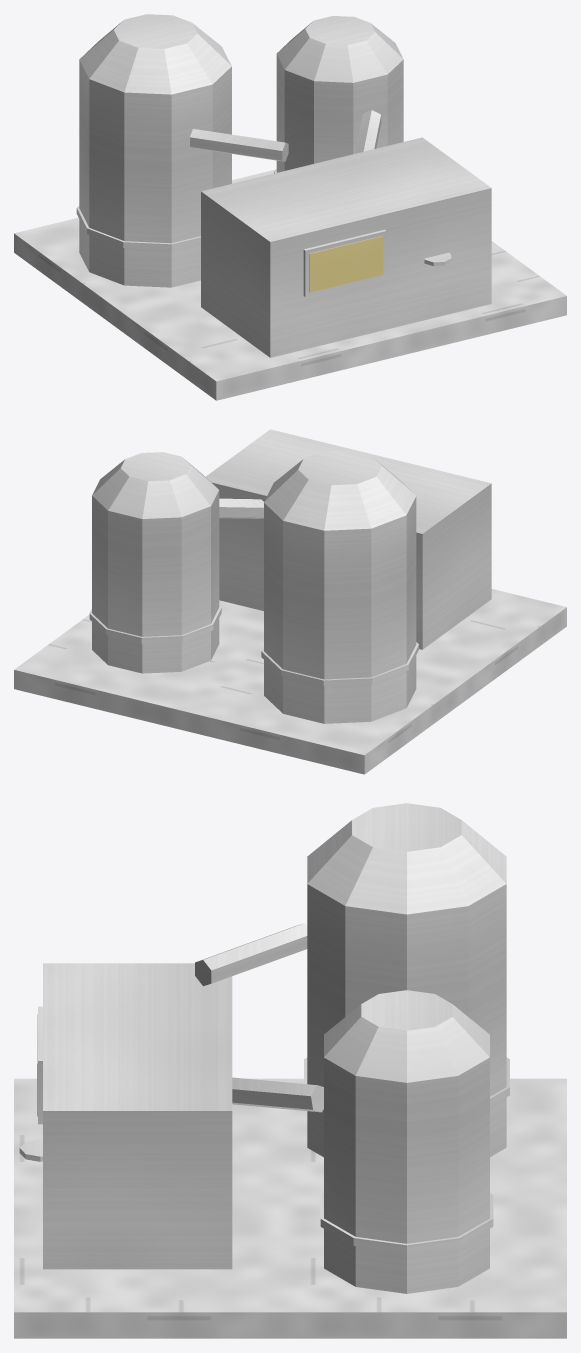
Rendered from biofuel_refinery.obj.
The picture shows the model from 3 angles, top to bottom: view 1: azimuth 30°, elevation 25°; view 2: azimuth 150°, elevation 25°; view 3: azimuth 270°, elevation 25°; orthographic projection. The views are drawn at different scales.
Visible parts, largest first — view 1: biofuel_refinery; view 2: biofuel_refinery; view 3: biofuel_refinery.
Boxes of the visible parts, x1=… form: biofuel_refinery: x1=14, y1=14, x2=566, y2=400; biofuel_refinery: x1=14, y1=429, x2=566, y2=774; biofuel_refinery: x1=14, y1=803, x2=566, y2=1338.
Bounding box in the file's own units: 1.9 × 1.26 × 1.9.
